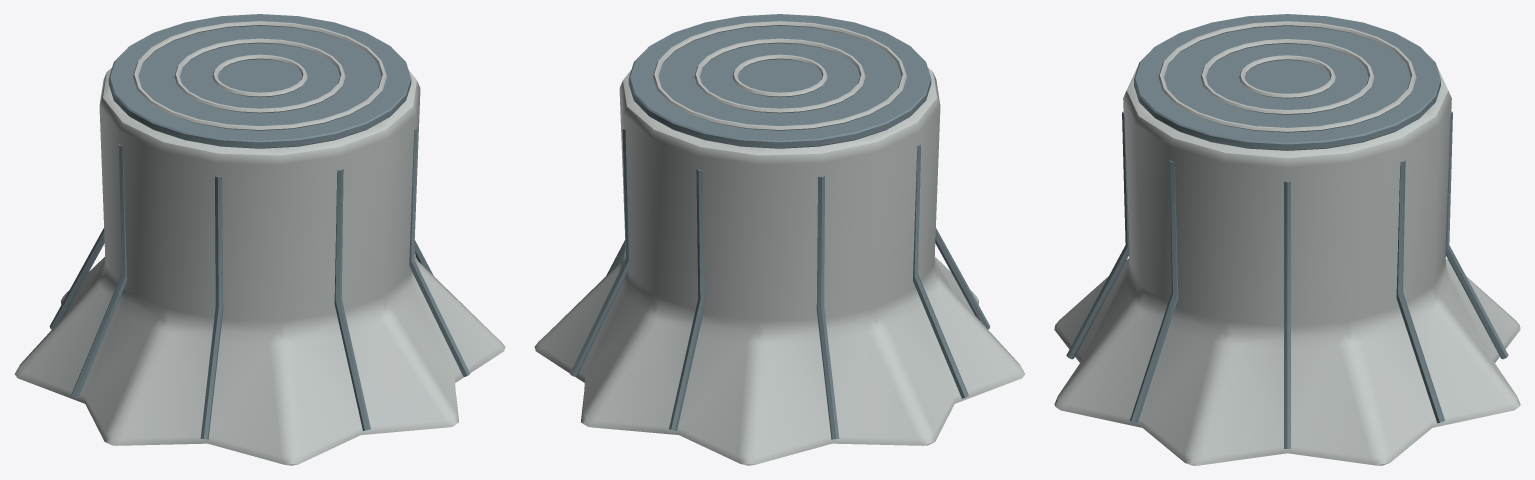
The model's file is tree-stump.glb.
The picture shows the model from 3 angles, left to right: view 1: azimuth 30°, elevation 25°; view 2: azimuth 150°, elevation 25°; view 3: azimuth 270°, elevation 25°; orthographic projection.
Parts seen in each view (by area): view 1: stump_with_roots, cut_surface, growth_ring.002, bark_line.003, bark_line.002, growth_ring.001, bark_line.004, bark_line.001, growth_ring, bark_line.005; view 2: stump_with_roots, cut_surface, growth_ring.002, bark_line.005, bark_line.006, growth_ring.001, bark_line.004, bark_line.007, growth_ring, bark_line.003; view 3: stump_with_roots, cut_surface, growth_ring.002, growth_ring.001, bark_line.001, bark_line.007, bark_line, bark_line.002, bark_line.006, growth_ring.
Boxes of the visible parts, x1,y1,x2,y2 form: stump_with_roots: (14, 68, 505, 465); cut_surface: (108, 14, 411, 148); growth_ring.002: (133, 21, 386, 130); bark_line.003: (200, 176, 223, 439); bark_line.002: (334, 169, 370, 430); growth_ring.001: (174, 38, 345, 113); bark_line.004: (71, 144, 126, 398); bark_line.001: (409, 127, 469, 376); growth_ring: (212, 54, 307, 97); bark_line.005: (49, 228, 104, 329); stump_with_roots: (534, 68, 1025, 465); cut_surface: (628, 14, 931, 148); growth_ring.002: (653, 21, 906, 130); bark_line.005: (816, 176, 839, 439); bark_line.006: (669, 169, 705, 430); growth_ring.001: (694, 38, 865, 113); bark_line.004: (913, 144, 968, 398); bark_line.007: (570, 127, 630, 376); growth_ring: (732, 54, 827, 97); bark_line.003: (935, 228, 990, 329); stump_with_roots: (1054, 66, 1520, 465); cut_surface: (1134, 14, 1440, 150); growth_ring.002: (1158, 21, 1416, 132); growth_ring.001: (1200, 39, 1374, 114); bark_line.001: (1130, 160, 1178, 423); bark_line.007: (1396, 160, 1444, 423); bark_line: (1284, 181, 1290, 448); bark_line.002: (1066, 111, 1129, 359); bark_line.006: (1445, 111, 1508, 359); growth_ring: (1239, 55, 1335, 98).
Bounding box in the file's own units: 0.6647 × 0.4635 × 0.6647.
